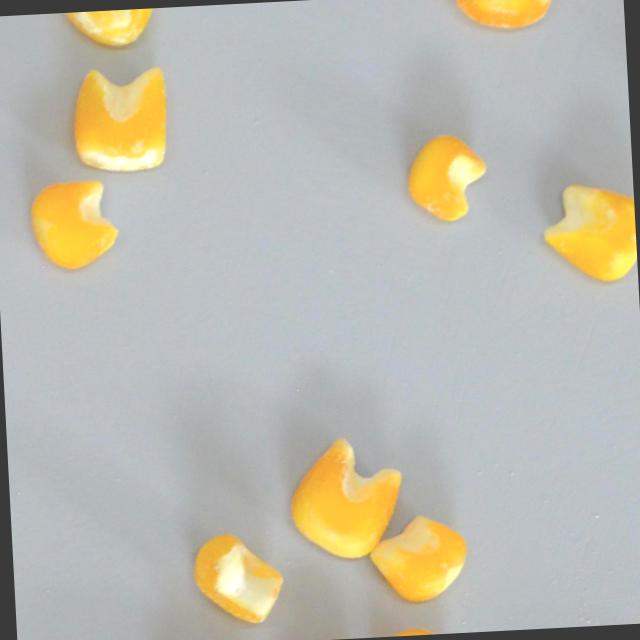no_desgerminado: (284, 430, 409, 565)
pelicula: (68, 61, 172, 176), (533, 179, 639, 289), (188, 529, 290, 629), (366, 511, 471, 607), (25, 175, 123, 275), (403, 129, 492, 225), (57, 8, 161, 53), (449, 0, 562, 35)
